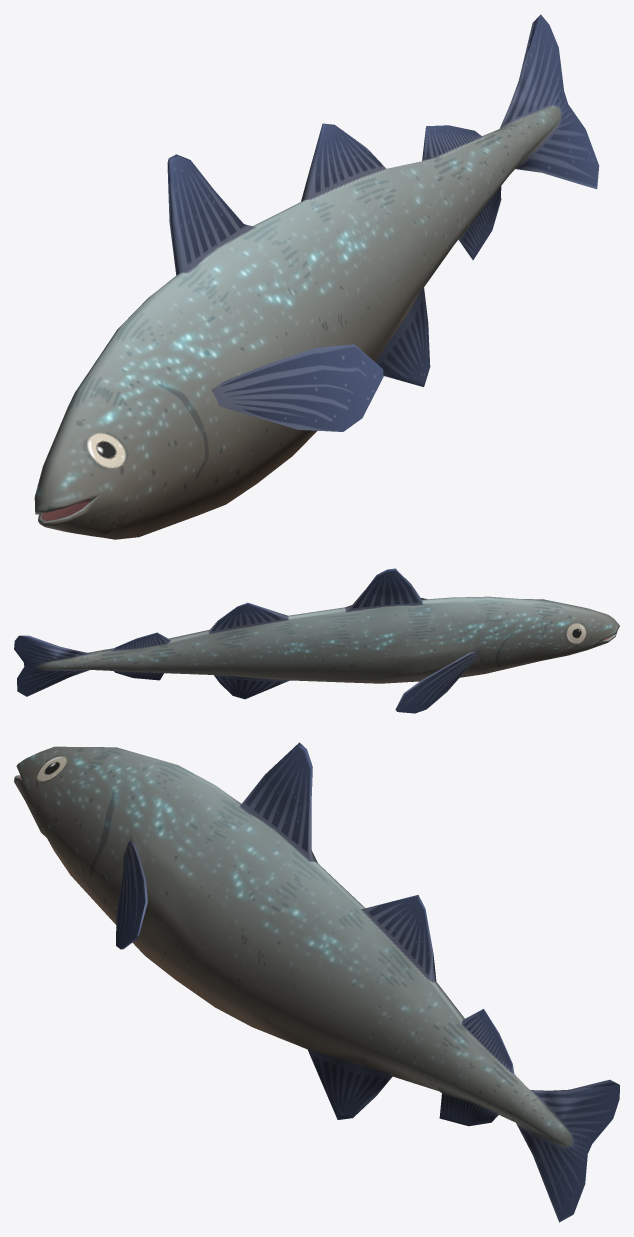
Rendered from cod.glb.
3 renders of one model, top to bottom at view 1: azimuth 30°, elevation 25°; view 2: azimuth 150°, elevation 25°; view 3: azimuth 270°, elevation 25°, orthographic. The views are drawn at different scales.
Visible parts, largest first — view 1: Mollusc_PolarCod; view 2: Mollusc_PolarCod; view 3: Mollusc_PolarCod.
Boxes of the visible parts, x1=… form: Mollusc_PolarCod: x1=34, y1=14, x2=599, y2=539; Mollusc_PolarCod: x1=14, y1=568, x2=619, y2=713; Mollusc_PolarCod: x1=14, y1=742, x2=619, y2=1222.
Bounding box in the file's own units: 0.1807 × 0.0614 × 0.128.
Materials: 1 (1 with a texture image).
